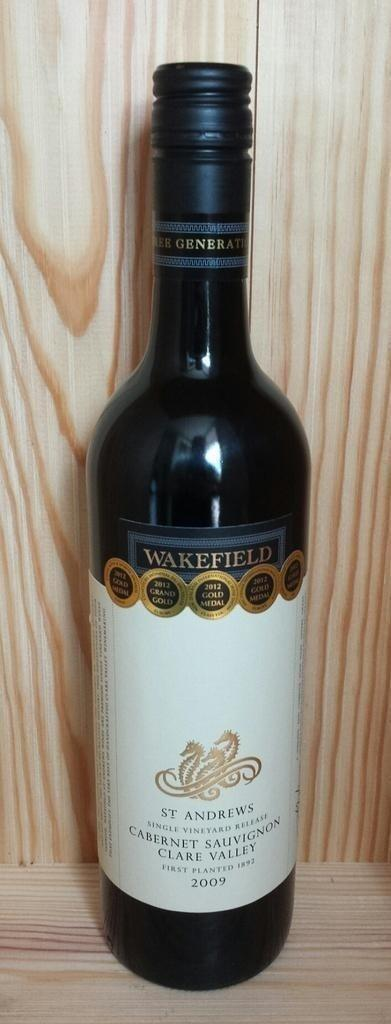bottle-glass: (88, 60, 309, 990)
